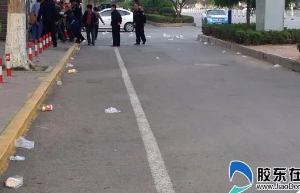garbage: (9, 136, 39, 154), (4, 171, 28, 188), (2, 153, 37, 164), (160, 32, 183, 42), (38, 102, 57, 114), (59, 66, 79, 76), (100, 107, 123, 115), (269, 61, 284, 72), (53, 80, 69, 90), (233, 51, 249, 58), (202, 40, 212, 48), (62, 62, 73, 69), (102, 29, 113, 35), (67, 55, 77, 61), (77, 45, 83, 55), (147, 32, 157, 38), (127, 31, 137, 36), (218, 49, 230, 53)
